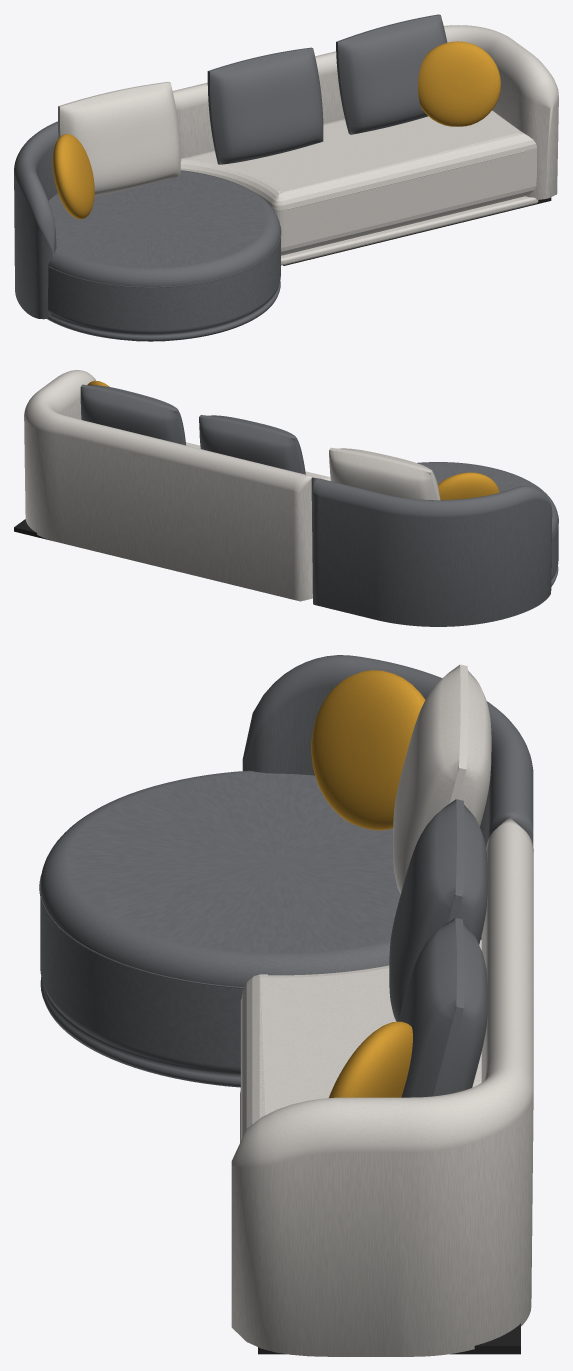
File: ownRoundChaise.glb
3 views of the same model, one above another, from view 1: azimuth 30°, elevation 25°; view 2: azimuth 150°, elevation 25°; view 3: azimuth 270°, elevation 25° (orthographic). The views are drawn at different scales.
Size of the model in its own units: 2.97 by 0.8788 by 1.32.
Materials: 6 (5 with a texture image).
